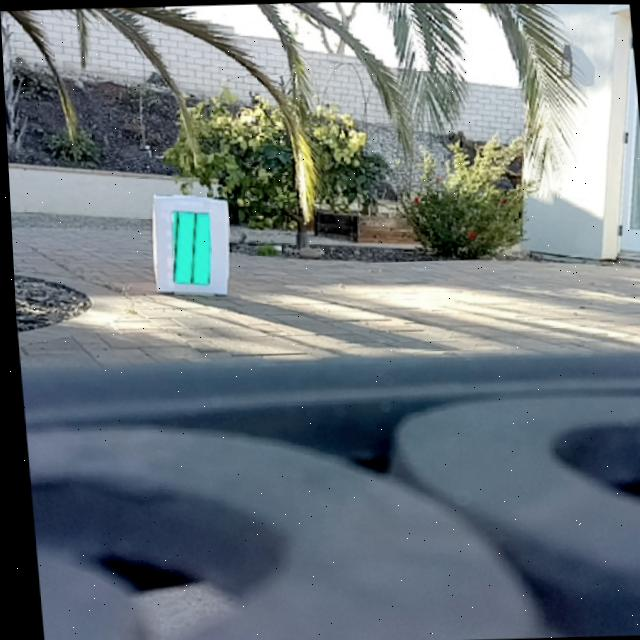led: (164, 206, 215, 287)
